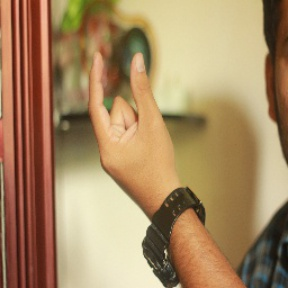U: (82, 46, 172, 179)
